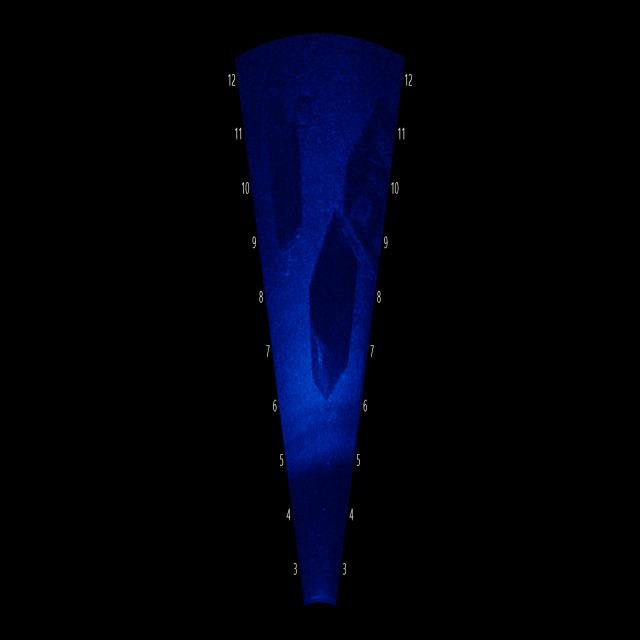square: (301, 216, 358, 418), (256, 81, 313, 263)
